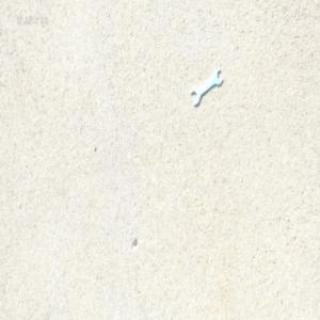Wrenchtrack_idkeyframe: (192, 69, 222, 106)
